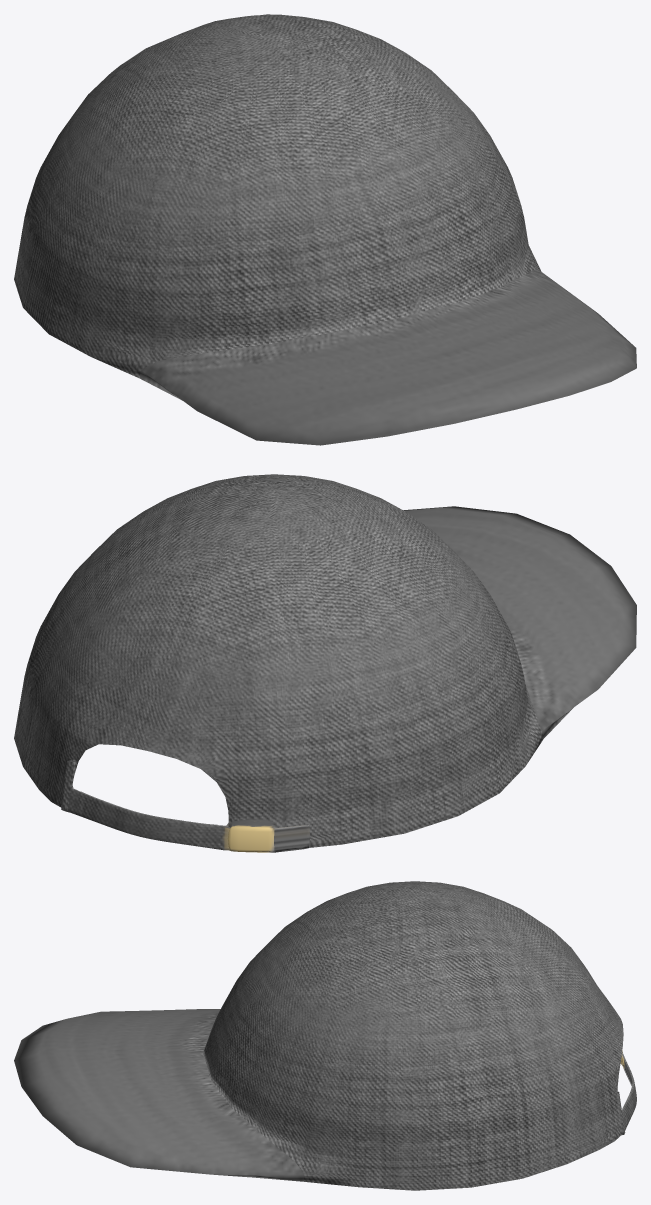
Rendered from cap.fbx.
3 views of the same model, one above another, from view 1: azimuth 30°, elevation 25°; view 2: azimuth 150°, elevation 25°; view 3: azimuth 270°, elevation 25° (orthographic). The views are drawn at different scales.
Visible parts, largest first — view 1: pSphere1; view 2: pSphere1; view 3: pSphere1.
Boxes of the visible parts, bbox=[...] form: pSphere1: bbox=[14, 14, 636, 445]; pSphere1: bbox=[14, 474, 636, 852]; pSphere1: bbox=[14, 881, 636, 1190].
Bounding box in the file's own units: 0.0193 × 0.00995 × 0.028.
